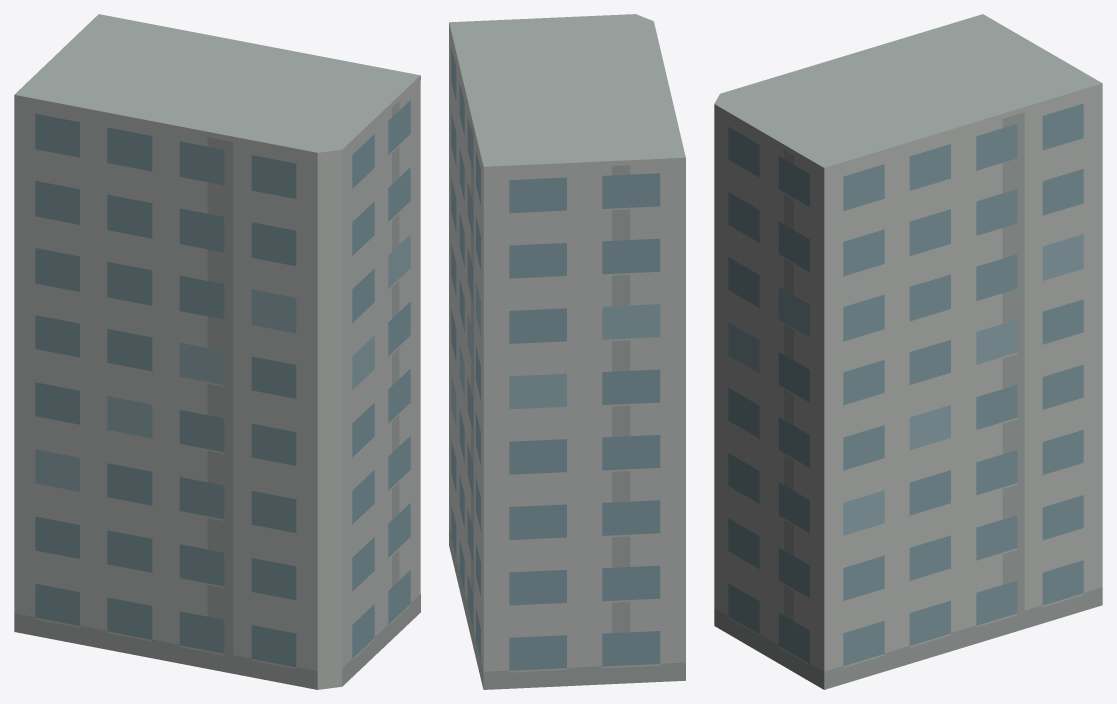
The model's file is survey-upis-32981532.glb.
3 renders of one model, left to right at view 1: azimuth 30°, elevation 25°; view 2: azimuth 150°, elevation 25°; view 3: azimuth 270°, elevation 25°, orthographic. The views are drawn at different scales.
Visible parts, largest first — view 1: survey-upis-32981532.tmp; view 2: survey-upis-32981532.tmp; view 3: survey-upis-32981532.tmp.
Part boxes in pixels (x1,y1,x2,y2): survey-upis-32981532.tmp: [14, 14, 420, 689]; survey-upis-32981532.tmp: [449, 14, 685, 689]; survey-upis-32981532.tmp: [714, 14, 1102, 689].
Bounding box in the file's own units: 15.99 × 25.25 × 17.04.
